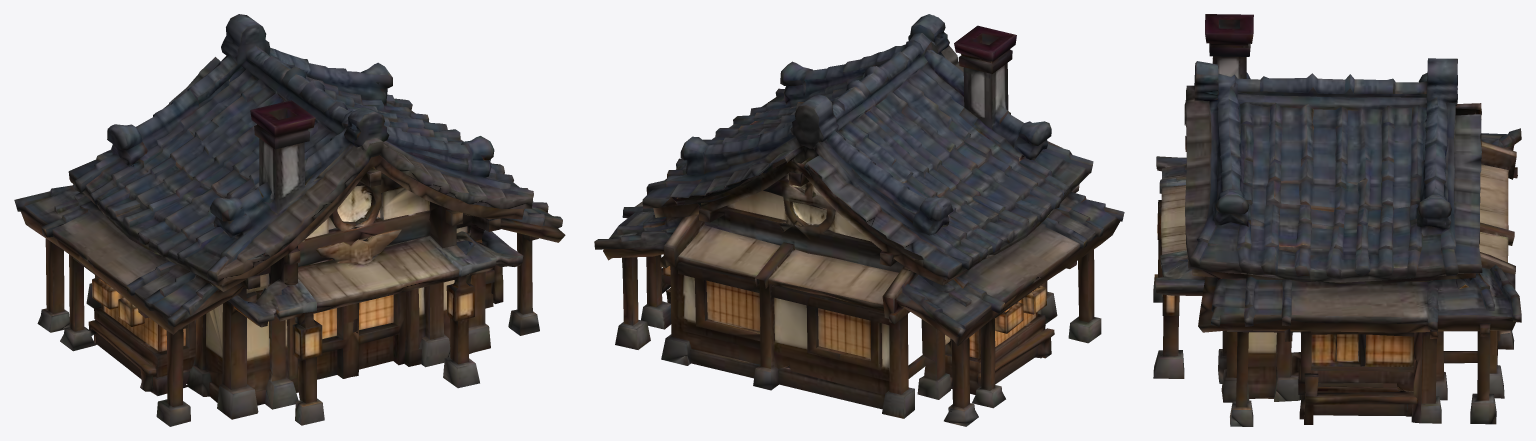
3 renders of one model, left to right at view 1: azimuth 30°, elevation 25°; view 2: azimuth 150°, elevation 25°; view 3: azimuth 270°, elevation 25°, orthographic. The views are drawn at different scales.
Visible parts, largest first — view 1: compact__rush_station__native_mobile; view 2: compact__rush_station__native_mobile; view 3: compact__rush_station__native_mobile.
Part boxes in pixels (x1,y1,x2,y2): compact__rush_station__native_mobile: [14, 14, 565, 426]; compact__rush_station__native_mobile: [594, 14, 1124, 426]; compact__rush_station__native_mobile: [1153, 14, 1521, 426].
Bounding box in the file's own units: 1 × 0.6716 × 0.7982.
Materials: 1 (1 with a texture image).
